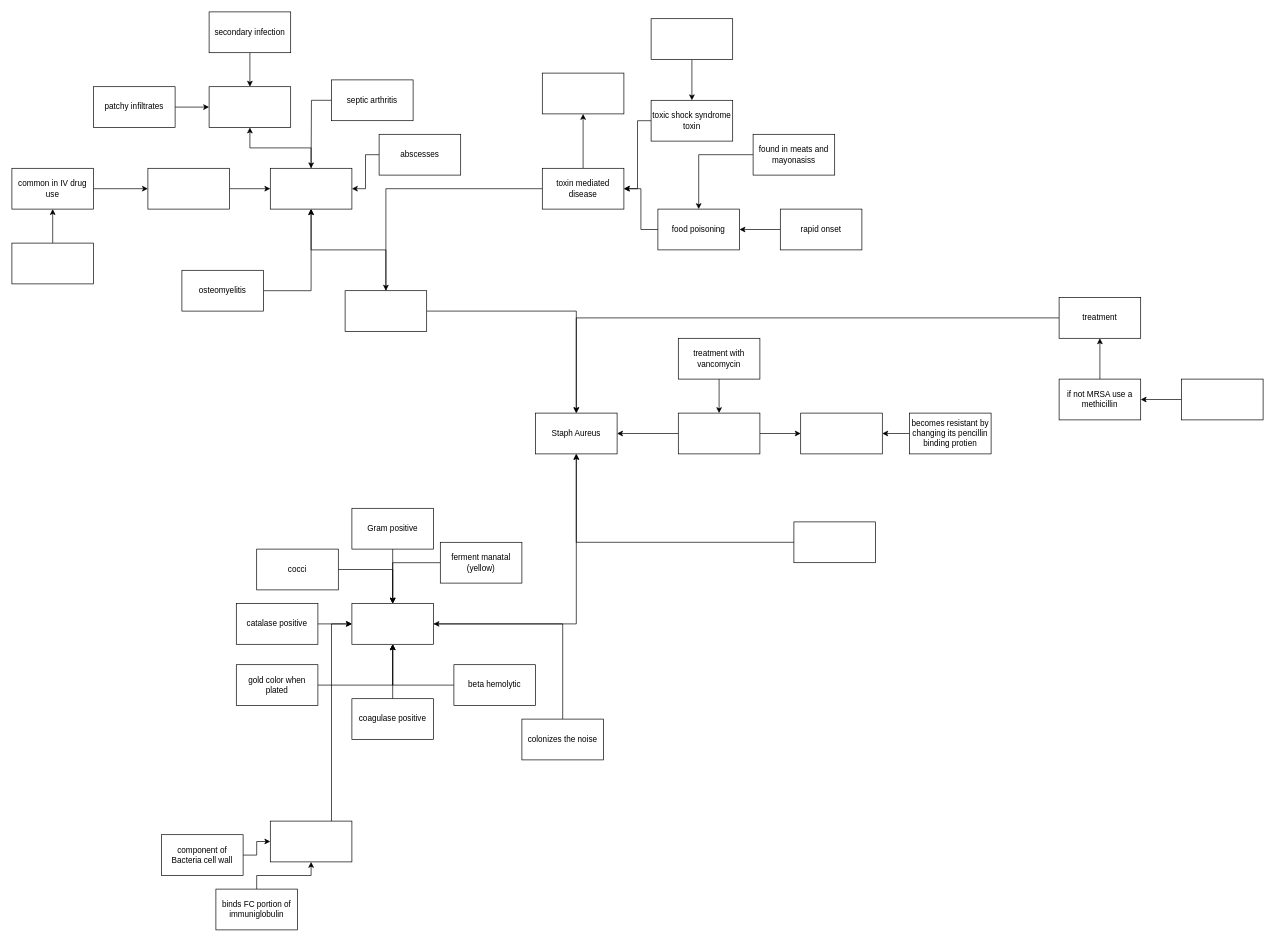
This 1275x942 diagram has some shape labels left out. Each missing label, with the box of its shape:
acute bacterial endocarditis: (147, 168, 230, 209)
caused by super antigen: (650, 18, 733, 60)
complications: (344, 290, 427, 332)
features: (351, 603, 434, 644)
inflammatory disease: (270, 168, 352, 209)
Menicillin resistant staph aureus: (800, 412, 882, 454)
MRSA: (678, 412, 760, 454)
nafcillin: (1181, 378, 1263, 420)
pnemonia: (208, 86, 291, 128)
protein A: (270, 820, 352, 862)
scalded skin syndrome: (542, 72, 624, 114)
symptoms: (793, 521, 876, 563)
tricuspit valve: (11, 242, 94, 284)
